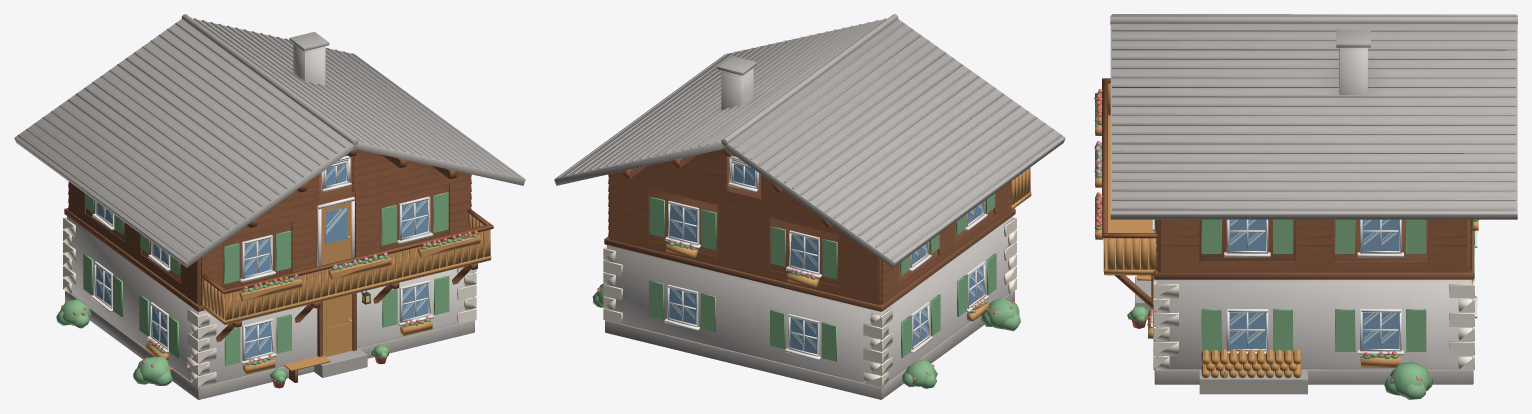
Rendered from two-story-timber-house.glb.
The picture shows the model from 3 angles, left to right: view 1: azimuth 30°, elevation 25°; view 2: azimuth 150°, elevation 25°; view 3: azimuth 270°, elevation 25°; orthographic projection. The views are drawn at different scales.
Parts seen in each view (by area): view 1: alpine-chalet_body, alpine-chalet_details, alpine-chalet_plants, alpine-chalet_door_l, alpine-chalet_frame, alpine-chalet_glints, alpine-chalet_flowers; view 2: alpine-chalet_body, alpine-chalet_details, alpine-chalet_plants, alpine-chalet_glints; view 3: alpine-chalet_body, alpine-chalet_details, alpine-chalet_plants, alpine-chalet_glints, alpine-chalet_flowers.
Boxes of the visible parts, <box> form: alpine-chalet_body: <box>14,14,525,399</box>; alpine-chalet_details: <box>63,149,493,388</box>; alpine-chalet_plants: <box>56,299,389,385</box>; alpine-chalet_door_l: <box>323,294,352,356</box>; alpine-chalet_frame: <box>314,293,367,377</box>; alpine-chalet_glints: <box>97,164,488,354</box>; alpine-chalet_flowers: <box>148,230,477,365</box>; alpine-chalet_body: <box>554,14,1065,399</box>; alpine-chalet_details: <box>603,149,1031,387</box>; alpine-chalet_plants: <box>592,284,1020,388</box>; alpine-chalet_glints: <box>671,164,982,349</box>; alpine-chalet_body: <box>1110,14,1517,384</box>; alpine-chalet_details: <box>1095,78,1478,394</box>; alpine-chalet_plants: <box>1127,305,1432,399</box>; alpine-chalet_glints: <box>1103,219,1397,343</box>; alpine-chalet_flowers: <box>1094,89,1478,359</box>.
Size of the model in its own units: 11.44 by 7.96 by 10.17.
Materials: 20 (1 with a texture image).
